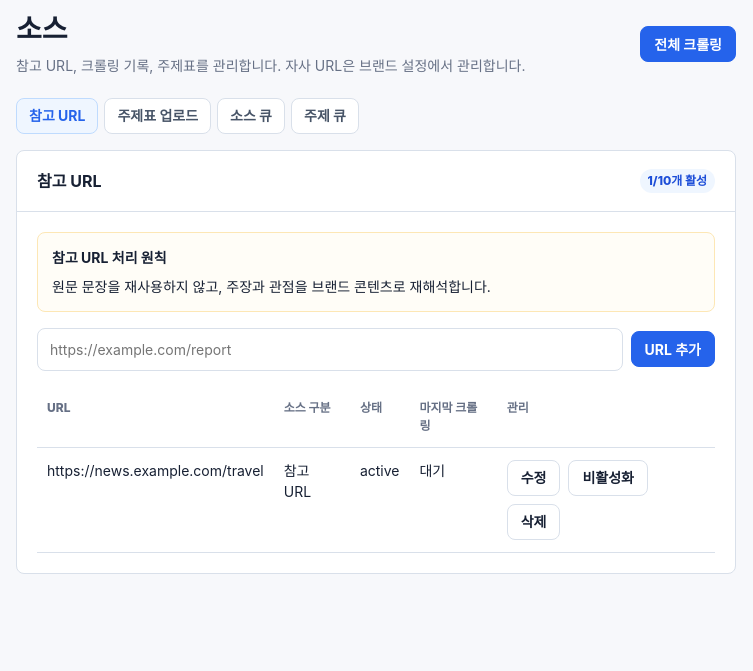
SourcesPage › does not add a source locally when API create fails
In the field named "참고 URL": (330, 349) [37,328,623,371], type "https://local-only.example.com"
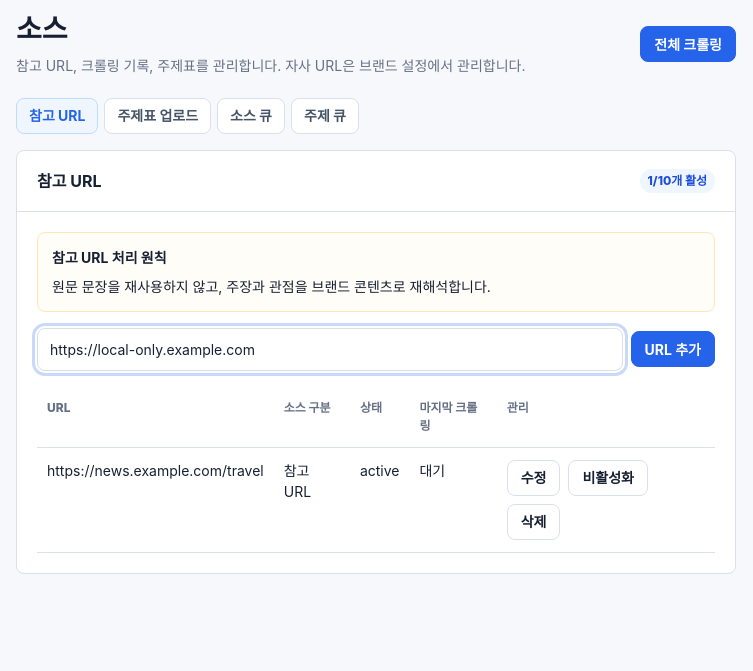
Click the button "URL 추가": (673, 349) [631,331,715,367]
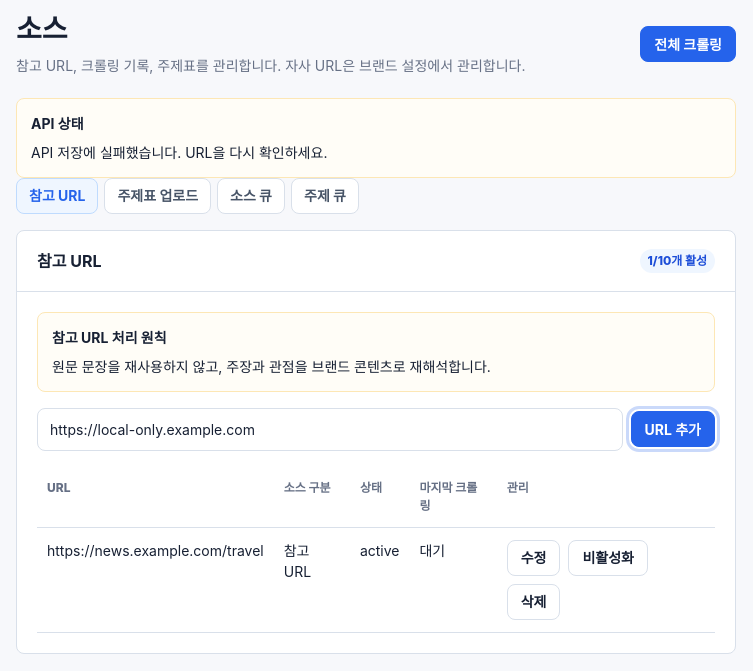
Check: the text "API 저장에 실패했습니다. URL을 다시 확인하세요." is shown, box [31,144,327,161]
